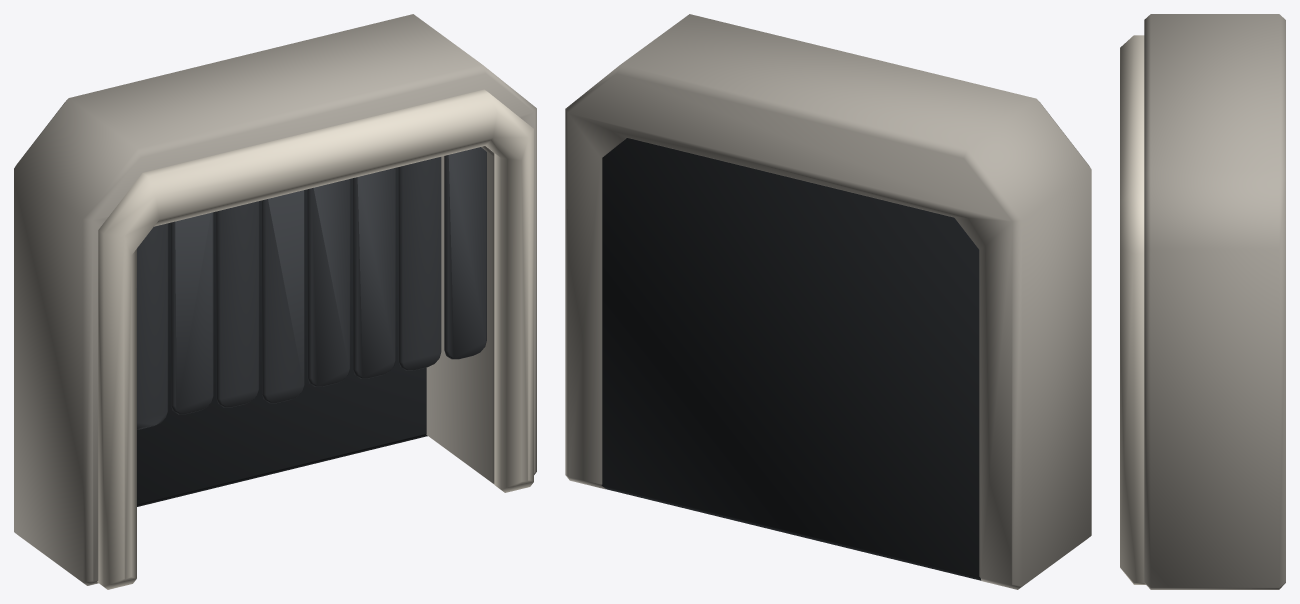
File: portique_entree.glb
3 views of the same model, side by side, from view 1: azimuth 30°, elevation 25°; view 2: azimuth 150°, elevation 25°; view 3: azimuth 270°, elevation 25° (orthographic). The views are drawn at different scales.
Visible parts, largest first — view 1: POR_Mur, POR_Struct, POR_Noir, POR_Laniere_07, POR_Laniere_08, POR_Laniere_04, POR_Laniere_05, POR_Laniere_06, POR_Laniere_03, POR_Laniere_02, POR_Laniere_01; view 2: POR_Noir, POR_Mur; view 3: POR_Mur, POR_Struct.
Part boxes in pixels (<box>): POR_Mur: <box>14,14,536,585</box>; POR_Struct: <box>97,89,533,589</box>; POR_Noir: <box>137,167,427,506</box>; POR_Laniere_07: <box>398,157,441,370</box>; POR_Laniere_08: <box>444,147,486,359</box>; POR_Laniere_04: <box>262,190,304,403</box>; POR_Laniere_05: <box>307,179,350,386</box>; POR_Laniere_06: <box>353,167,395,378</box>; POR_Laniere_03: <box>216,201,259,407</box>; POR_Laniere_02: <box>171,212,213,414</box>; POR_Laniere_01: <box>137,223,168,429</box>; POR_Noir: <box>601,138,981,580</box>; POR_Mur: <box>565,14,1091,589</box>; POR_Mur: <box>1144,14,1285,589</box>; POR_Struct: <box>1120,35,1145,584</box>.
Bounding box in the file's own units: 1.62 × 1.45 × 0.55.
